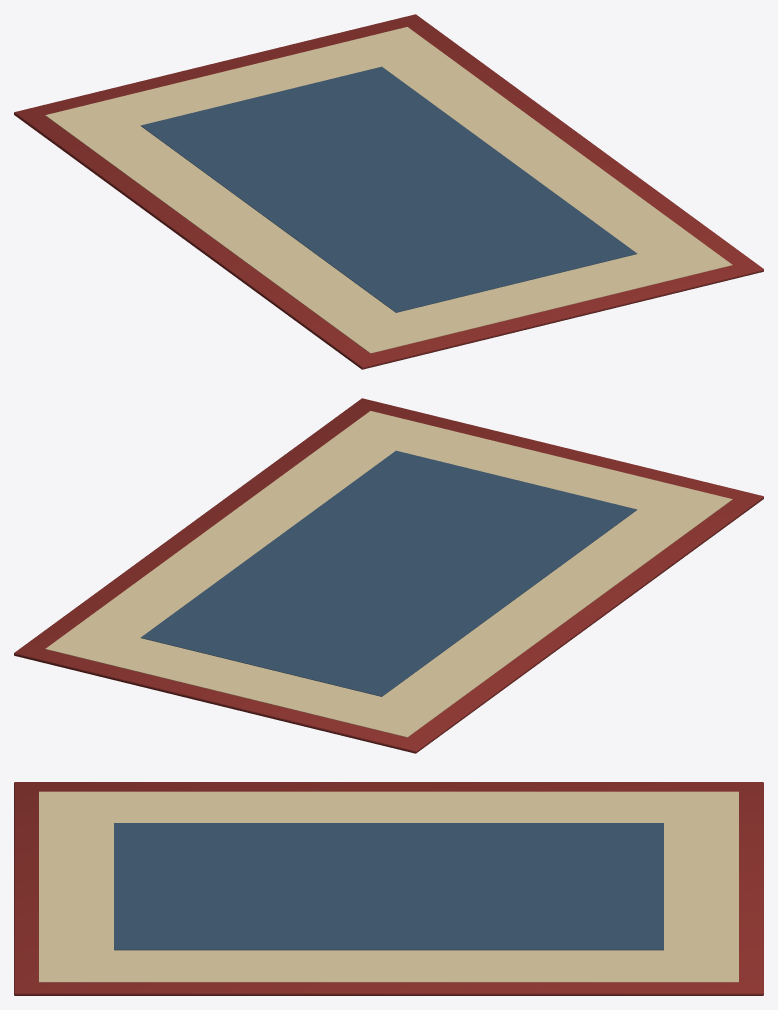
The model's file is Rug_Rect_2x3.glb.
3 views of the same model, one above another, from view 1: azimuth 30°, elevation 25°; view 2: azimuth 150°, elevation 25°; view 3: azimuth 270°, elevation 25° (orthographic). The views are drawn at different scales.
Parts seen in each view (by area): view 1: Rug_Rect_2x3; view 2: Rug_Rect_2x3; view 3: Rug_Rect_2x3.
Part boxes in pixels (x1,y1,x2,y2): Rug_Rect_2x3: (14,14,763,369); Rug_Rect_2x3: (14,398,763,753); Rug_Rect_2x3: (14,782,763,995).
Size of the model in its own units: 2 by 0.019 by 3.
